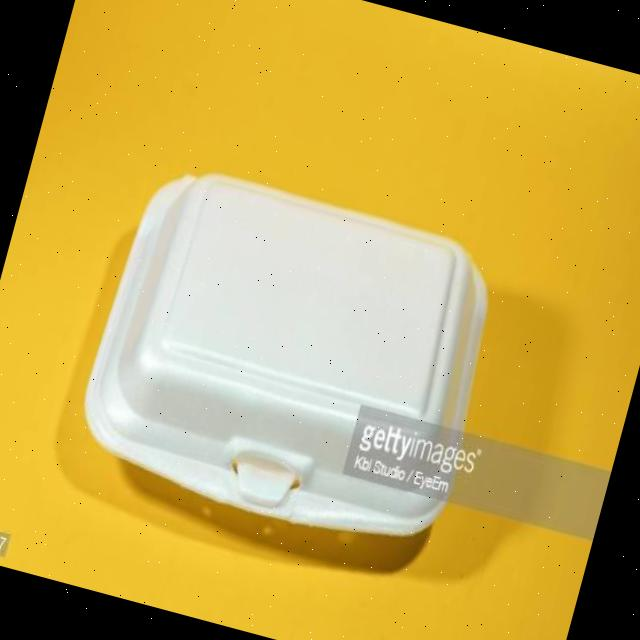styrofoam: (64, 150, 516, 564)
